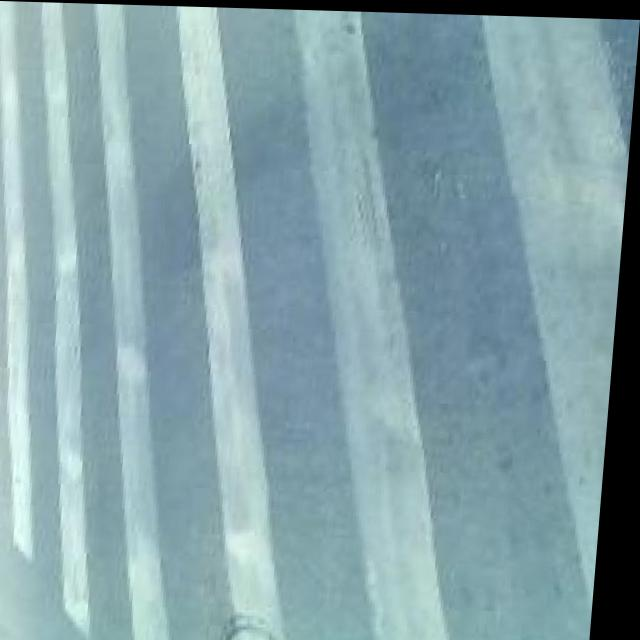zebra: (0, 1, 640, 531)
